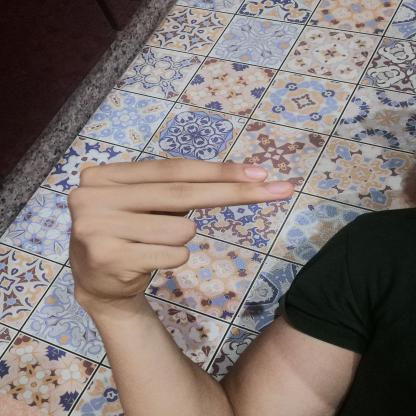AYN: (41, 150, 312, 313)
